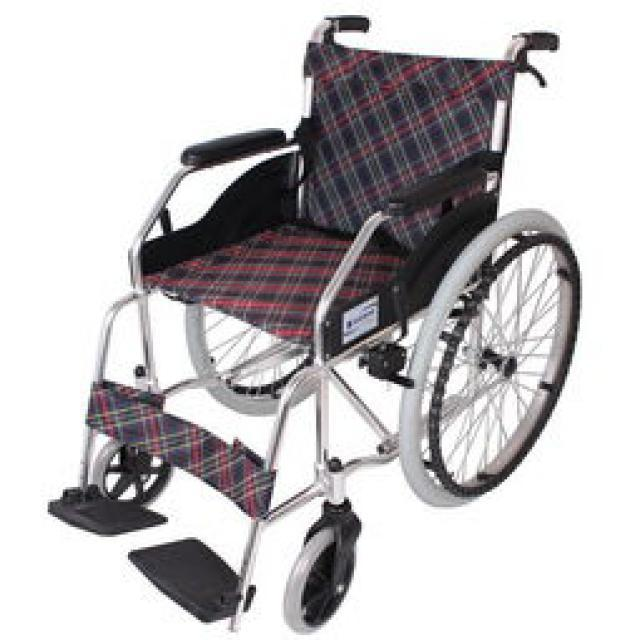wheelchair: (40, 10, 582, 638)
